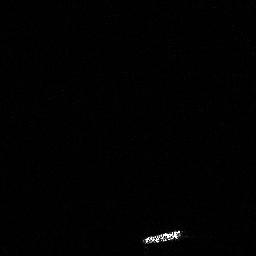ship: (140, 227, 184, 246)
